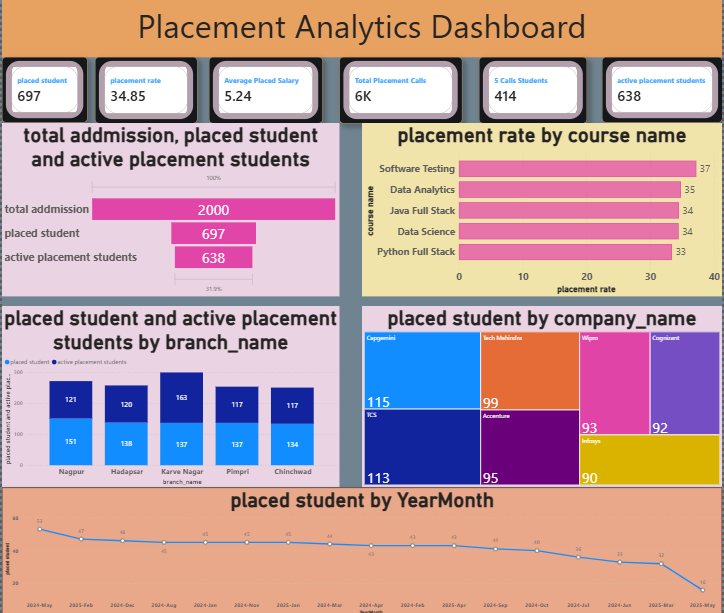

Layout of this report page (visuals, bound fields, positions):
{"tool":"powerbi","page":{"name":"Placement Analytics Dashboard","canvas":[1600,1382],"ordinal":2},"visuals":[{"type":"textbox","box":[0,0,1600,127.5],"z":0},{"type":"cardVisual","fields":{"Data":["placed measures.active placement students"]},"box":[1332.5,127.5,267.5,145],"z":1000},{"type":"cardVisual","fields":{"Data":["placed measures.plased student"]},"box":[0,127.5,190,145],"z":2000},{"type":"cardVisual","fields":{"Data":["placed measures.5 Calls Students"]},"box":[1060,125,240,147.5],"z":3000},{"type":"cardVisual","fields":{"Data":["placed measures.placement rate"]},"box":[207.5,125,227.5,147.5],"z":4000},{"type":"cardVisual","fields":{"Data":["placed measures.Average Placed Salary"]},"box":[460,125,252.5,147.5],"z":5000},{"type":"cardVisual","fields":{"Data":["placed measures.Total Placement Calls"]},"box":[750,125,272.5,147.5],"z":6000},{"type":"funnel","fields":{"Y":["student measures.total addmission","placed measures.plased student","placed measures.active placement students"]},"box":[0,272.5,750,385],"z":7000},{"type":"barChart","fields":{"Y":["placed measures.placement rate"],"Category":["courses_dim.course name"]},"box":[800,272.5,800,385],"z":8000},{"type":"columnChart","fields":{"Y":["placed measures.plased student","placed measures.active placement students"],"Category":["branches_dim.branch_name"]},"box":[0,680,750,402.5],"z":9000},{"type":"treemap","fields":{"Group":["placements.company_name"],"Values":["placed measures.plased student"]},"box":[800,680,800,402.5],"z":10000},{"type":"lineChart","fields":{"Category":["date table.YearMonth"],"Y":["placed measures.plased student"]},"box":[0,1082.5,1600,290],"z":11000}]}

Visuals, with their boxes in screenshot pixels (x1, y1, x2, y2), scaled from the page's 1600x1382 canvas onto the 724x613 screenshot:
textbox: locate(0, 0, 723, 57)
cardVisual - placed measures.active placement students: locate(603, 57, 723, 121)
cardVisual - placed measures.plased student: locate(0, 57, 86, 121)
cardVisual - placed measures.5 Calls Students: locate(480, 55, 588, 121)
cardVisual - placed measures.placement rate: locate(94, 55, 197, 121)
cardVisual - placed measures.Average Placed Salary: locate(208, 55, 322, 121)
cardVisual - placed measures.Total Placement Calls: locate(339, 55, 463, 121)
funnel - student measures.total addmission x placed measures.plased student: locate(0, 121, 339, 292)
barChart - placed measures.placement rate x courses_dim.course name: locate(362, 121, 723, 292)
columnChart - placed measures.plased student x placed measures.active placement students: locate(0, 302, 339, 480)
treemap - placements.company_name x placed measures.plased student: locate(362, 302, 723, 480)
lineChart - date table.YearMonth x placed measures.plased student: locate(0, 480, 723, 609)
